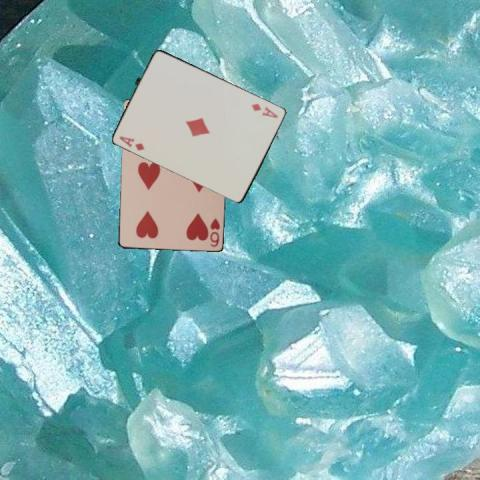6h: (207, 215, 221, 248)
Ad: (116, 133, 147, 152), (248, 101, 279, 119)
